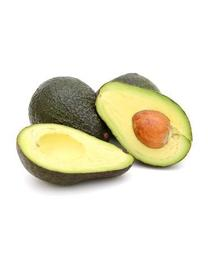avocado: (93, 80, 195, 170), (16, 122, 136, 188), (28, 76, 113, 148)
